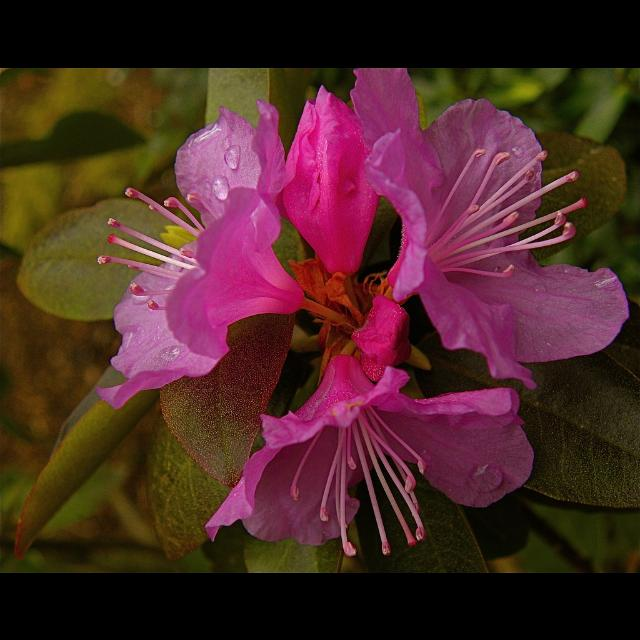Flower: (93, 68, 629, 560)
